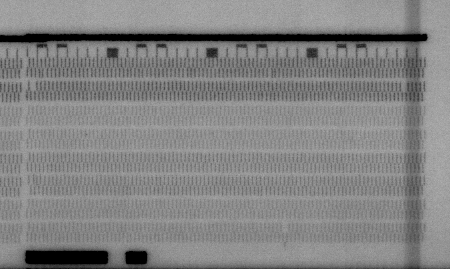Broken hole: (27, 81, 40, 93), (280, 221, 290, 233), (400, 82, 409, 94)
Oblique printing: (266, 68, 277, 79)
